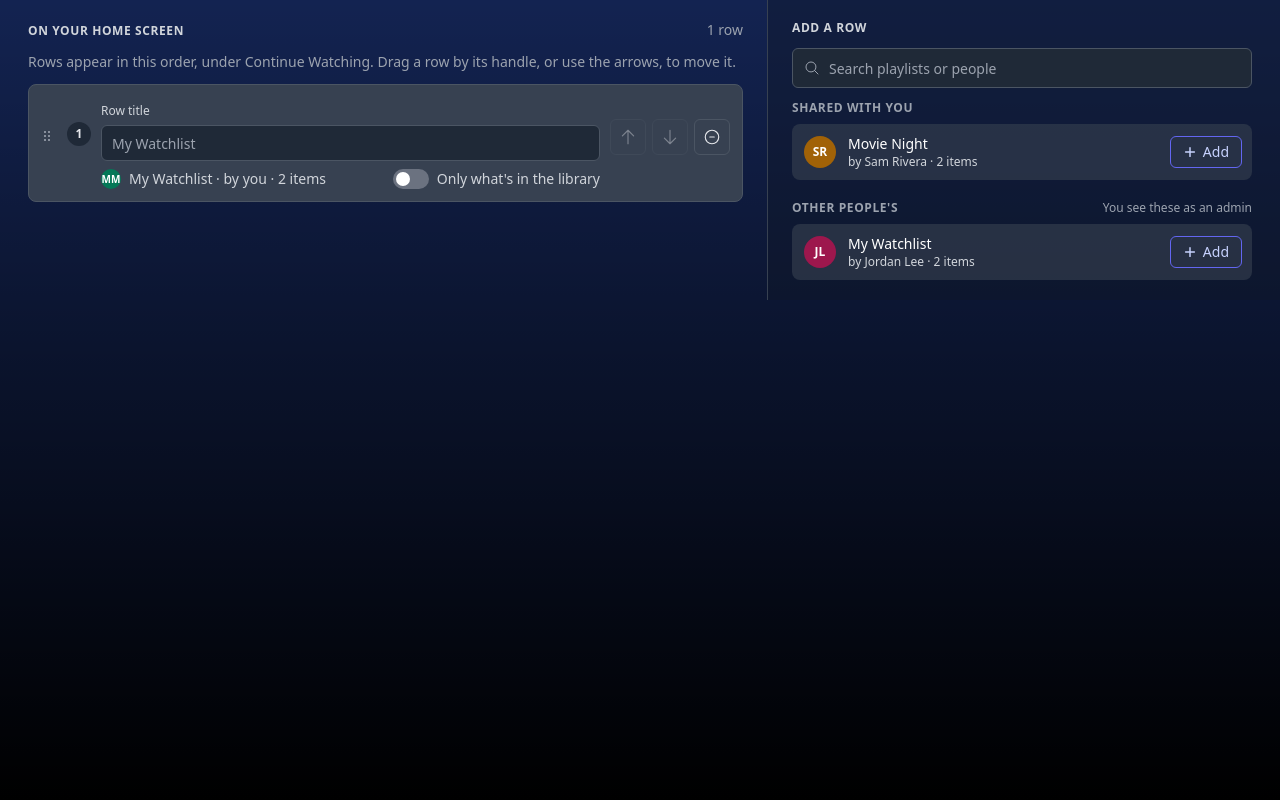
says so when there are no rows
What coordinates should you click on to do the following:
click the button named "Remove My Watchlist by you from the home screen"
I would click on:
 (712, 137)
Its box is [694,119,730,155].
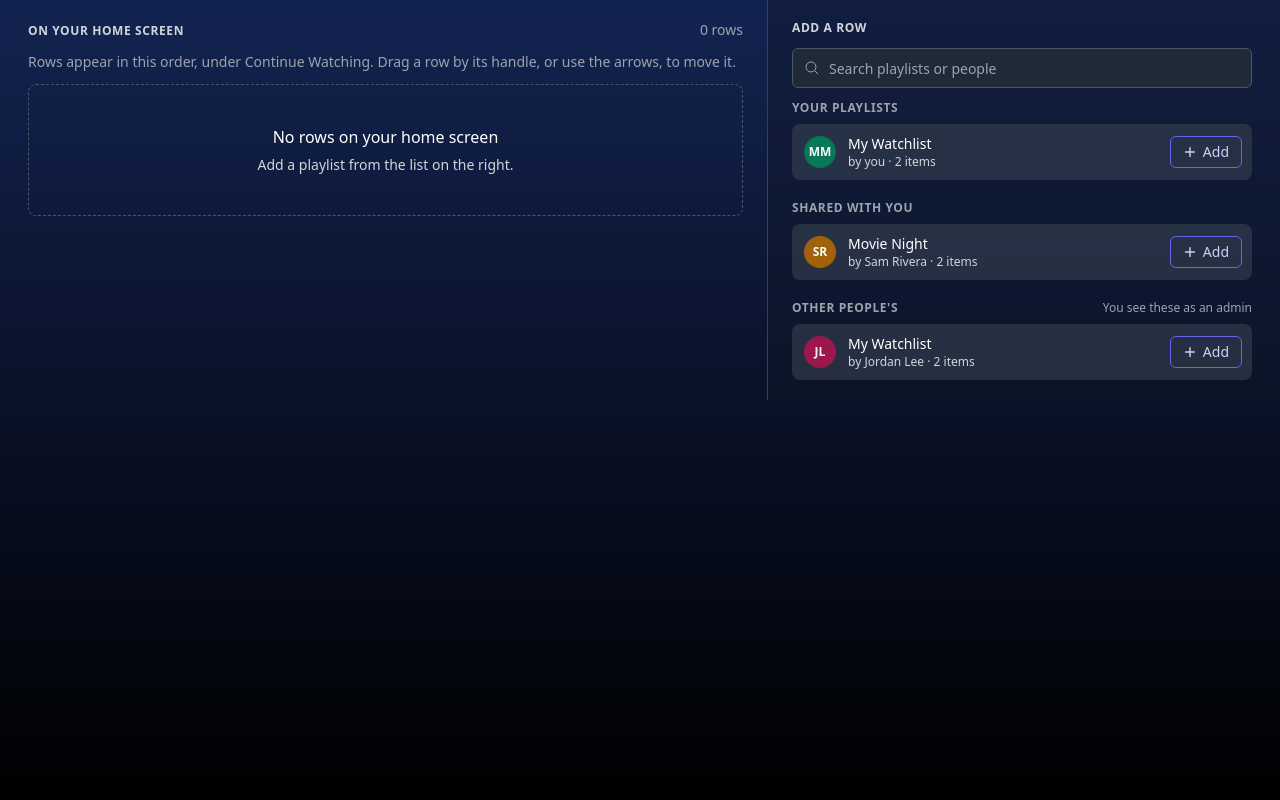
Expected: the text "No rows on your home screen" is shown, [273,125,498,149]
